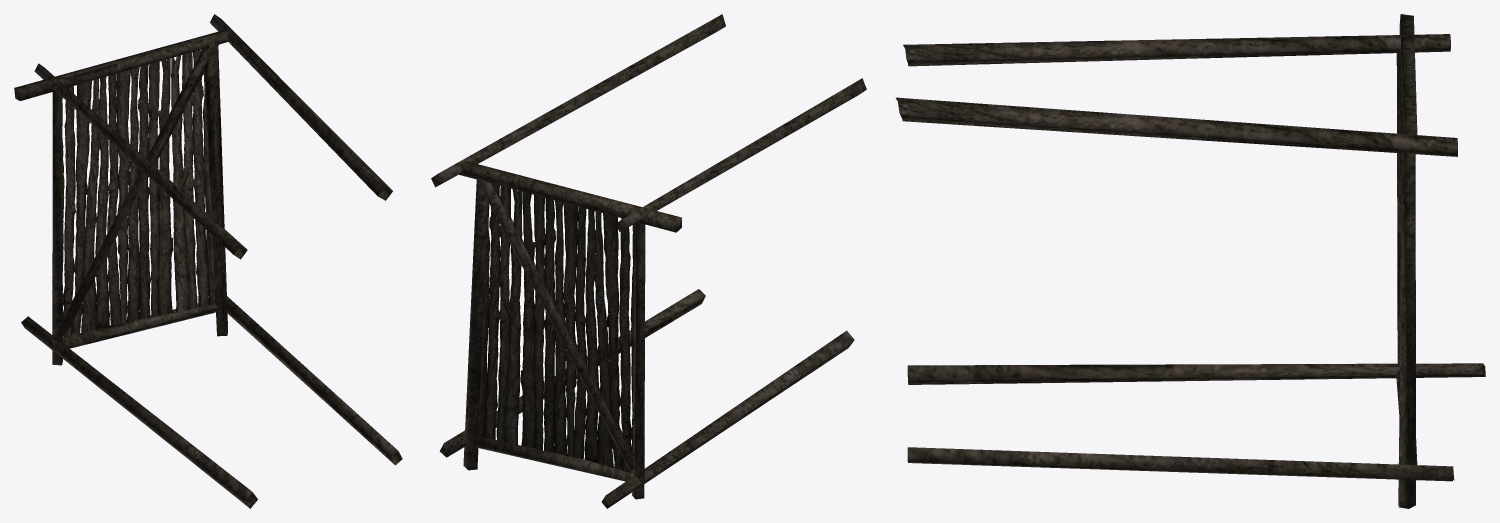
Rendered from MEP_Walk_05.fbx.
3 views of the same model, side by side, from view 1: azimuth 30°, elevation 25°; view 2: azimuth 150°, elevation 25°; view 3: azimuth 270°, elevation 25° (orthographic). The views are drawn at different scales.
Visible parts, largest first — view 1: MEP_Walk_05; view 2: MEP_Walk_05; view 3: MEP_Walk_05.
Part boxes in pixels (x1,y1,x2,y2): MEP_Walk_05: (14,14,402,508); MEP_Walk_05: (431,14,866,508); MEP_Walk_05: (896,14,1485,508).
Bounding box in the file's own units: 3.43 × 4.49 × 6.27.
